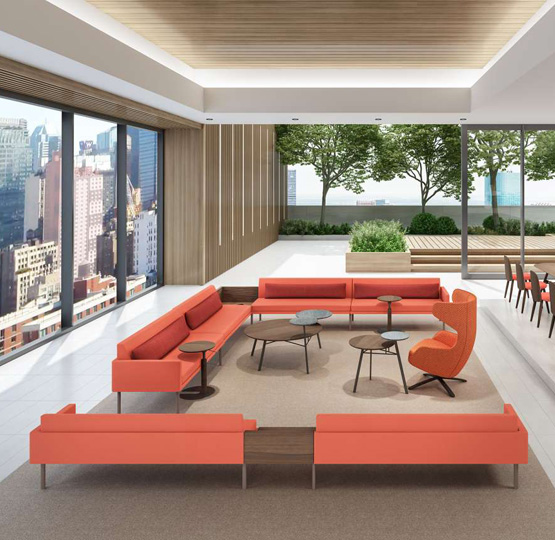conference_table: (244, 309, 336, 373), (347, 333, 410, 394), (179, 340, 217, 399), (378, 295, 402, 342), (534, 262, 555, 283)
